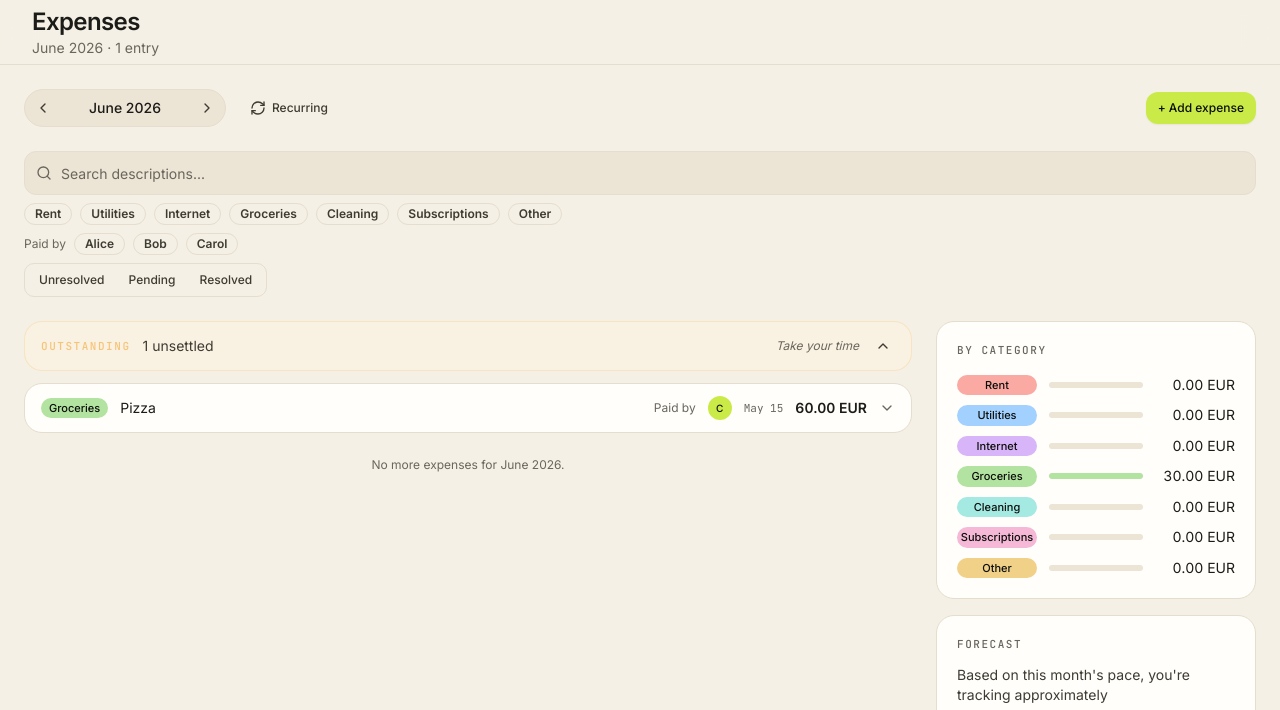
Test: <ExpensesPage /> expense action gating (roommates) › admin non-creator can delete (but not edit) someone else's expense
The width and height of the screenshot is (1280, 710).
What coordinates should you click on to do the following:
click the text "Pizza"
I would click on:
 (138, 408)
Its box is x1=120 y1=399 x2=156 y2=416.
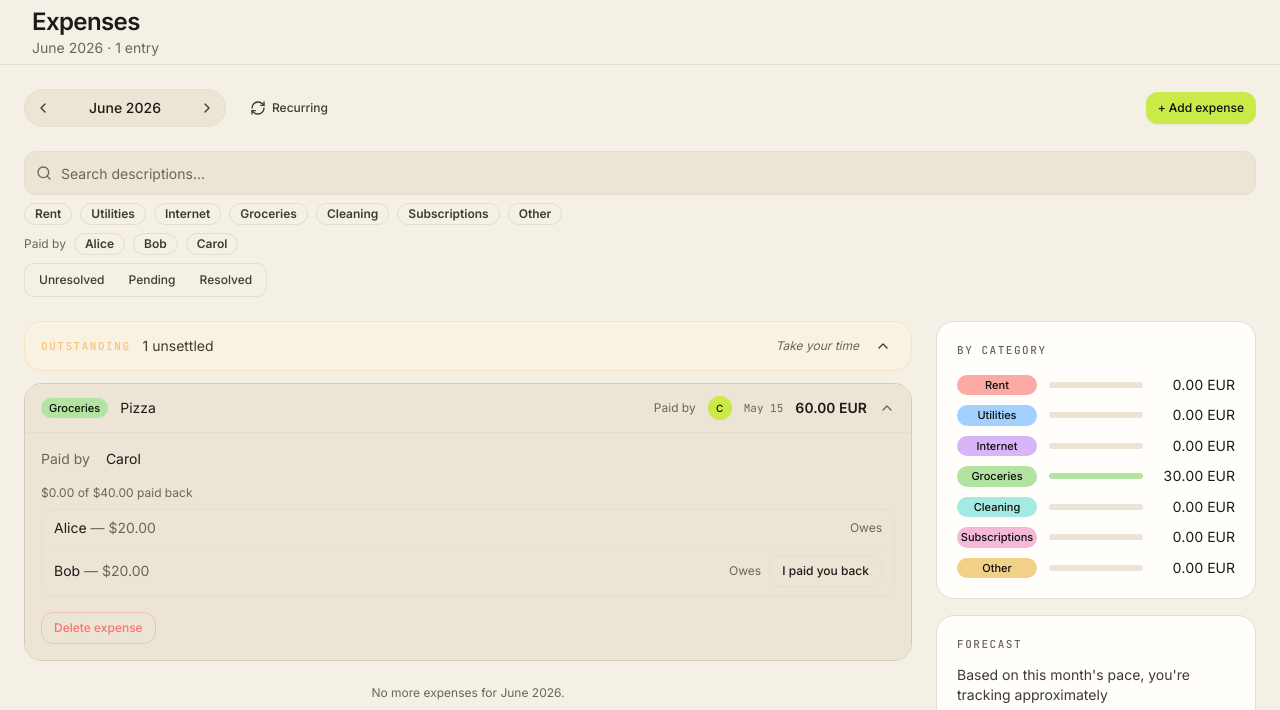
Check: the button "Delete expense" is shown, box x1=41 y1=612 x2=156 y2=644
